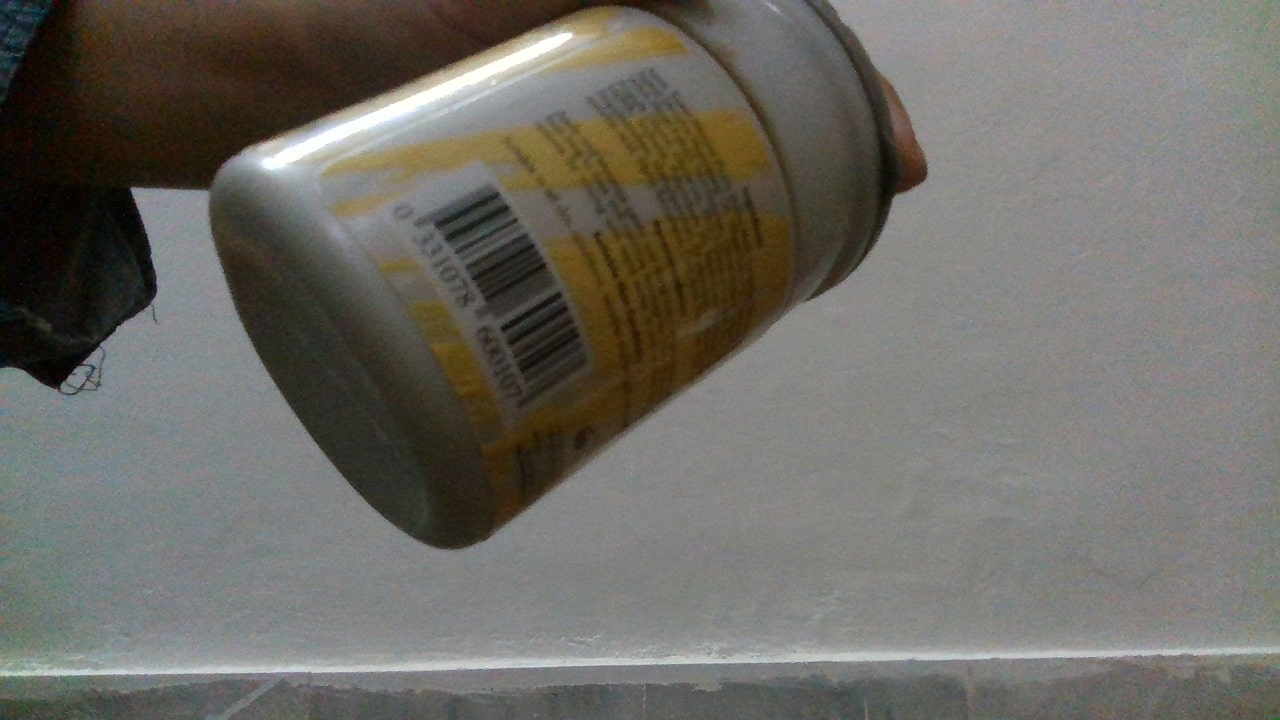Barcode: (410, 177, 595, 417)
